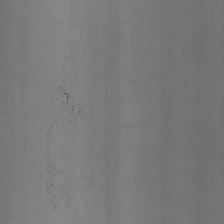inclusion: (52, 79, 88, 128), (45, 149, 68, 217)
